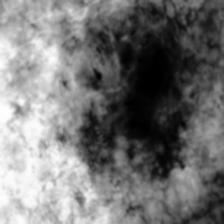Potentially Malignant Skin Tumors: (73, 6, 183, 164)
